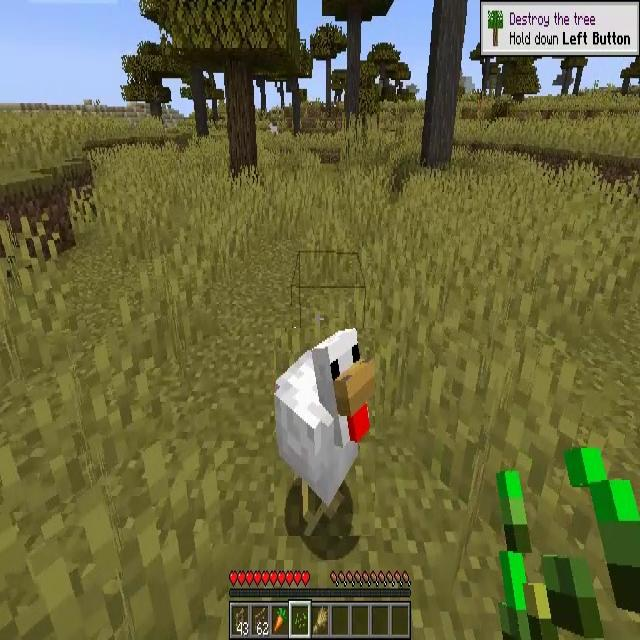duck: (274, 328, 375, 536)
